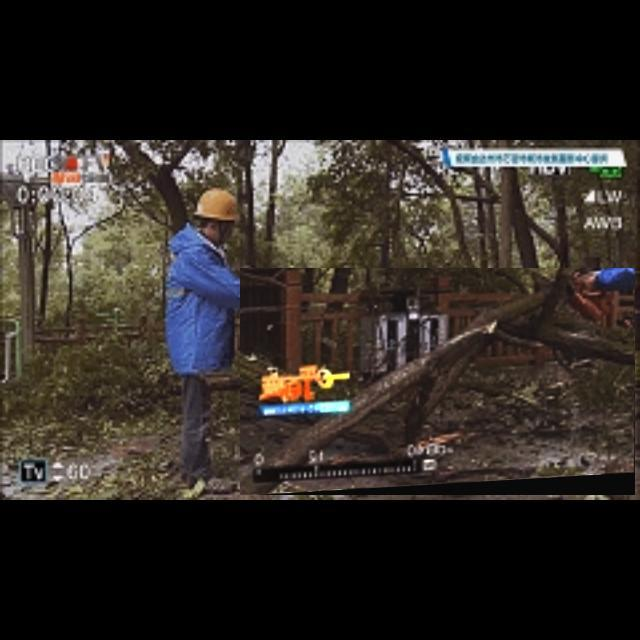fallen_tree: (240, 268, 636, 496)
